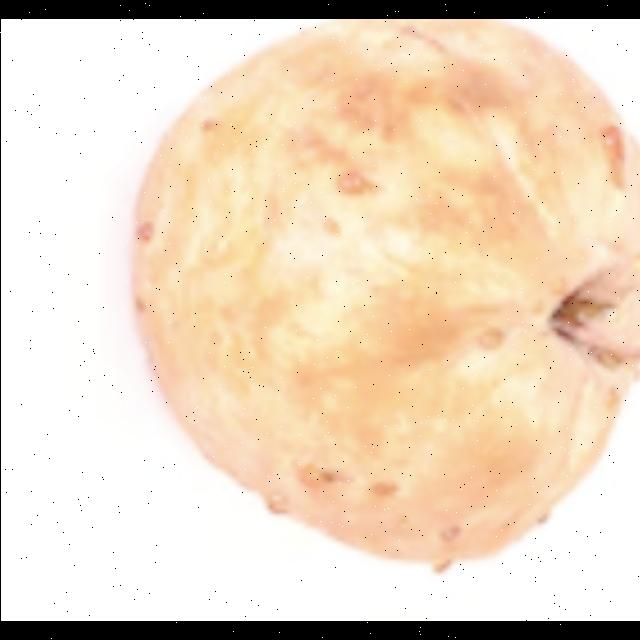Apel Tidak Segar: (116, 19, 640, 578)
